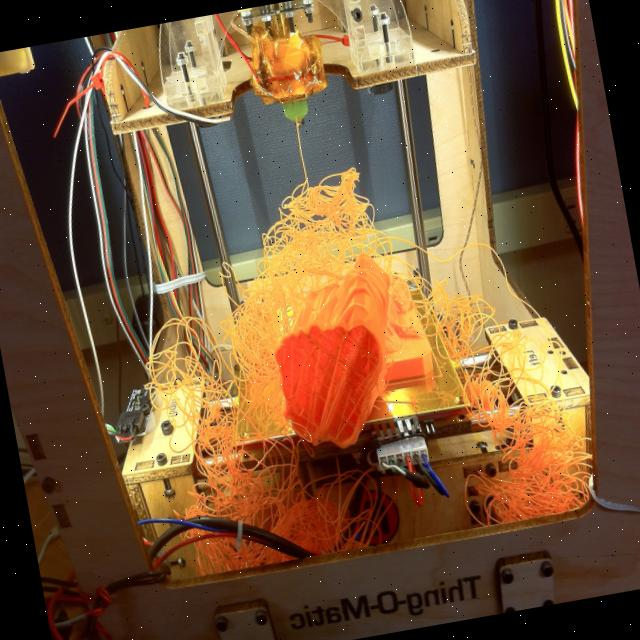spaghetti: (420, 271, 604, 530), (194, 162, 397, 344), (170, 432, 381, 586), (115, 302, 258, 470)
